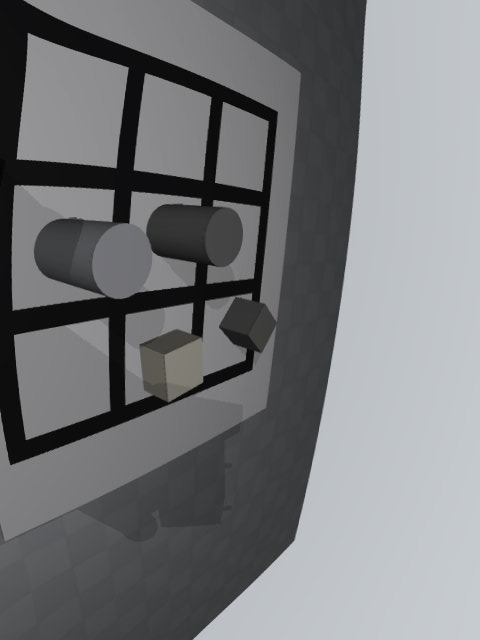can: (34, 219, 152, 299)
cube: (219, 298, 277, 353)
cylinder: (146, 204, 243, 267)
foam: (139, 329, 203, 403)
